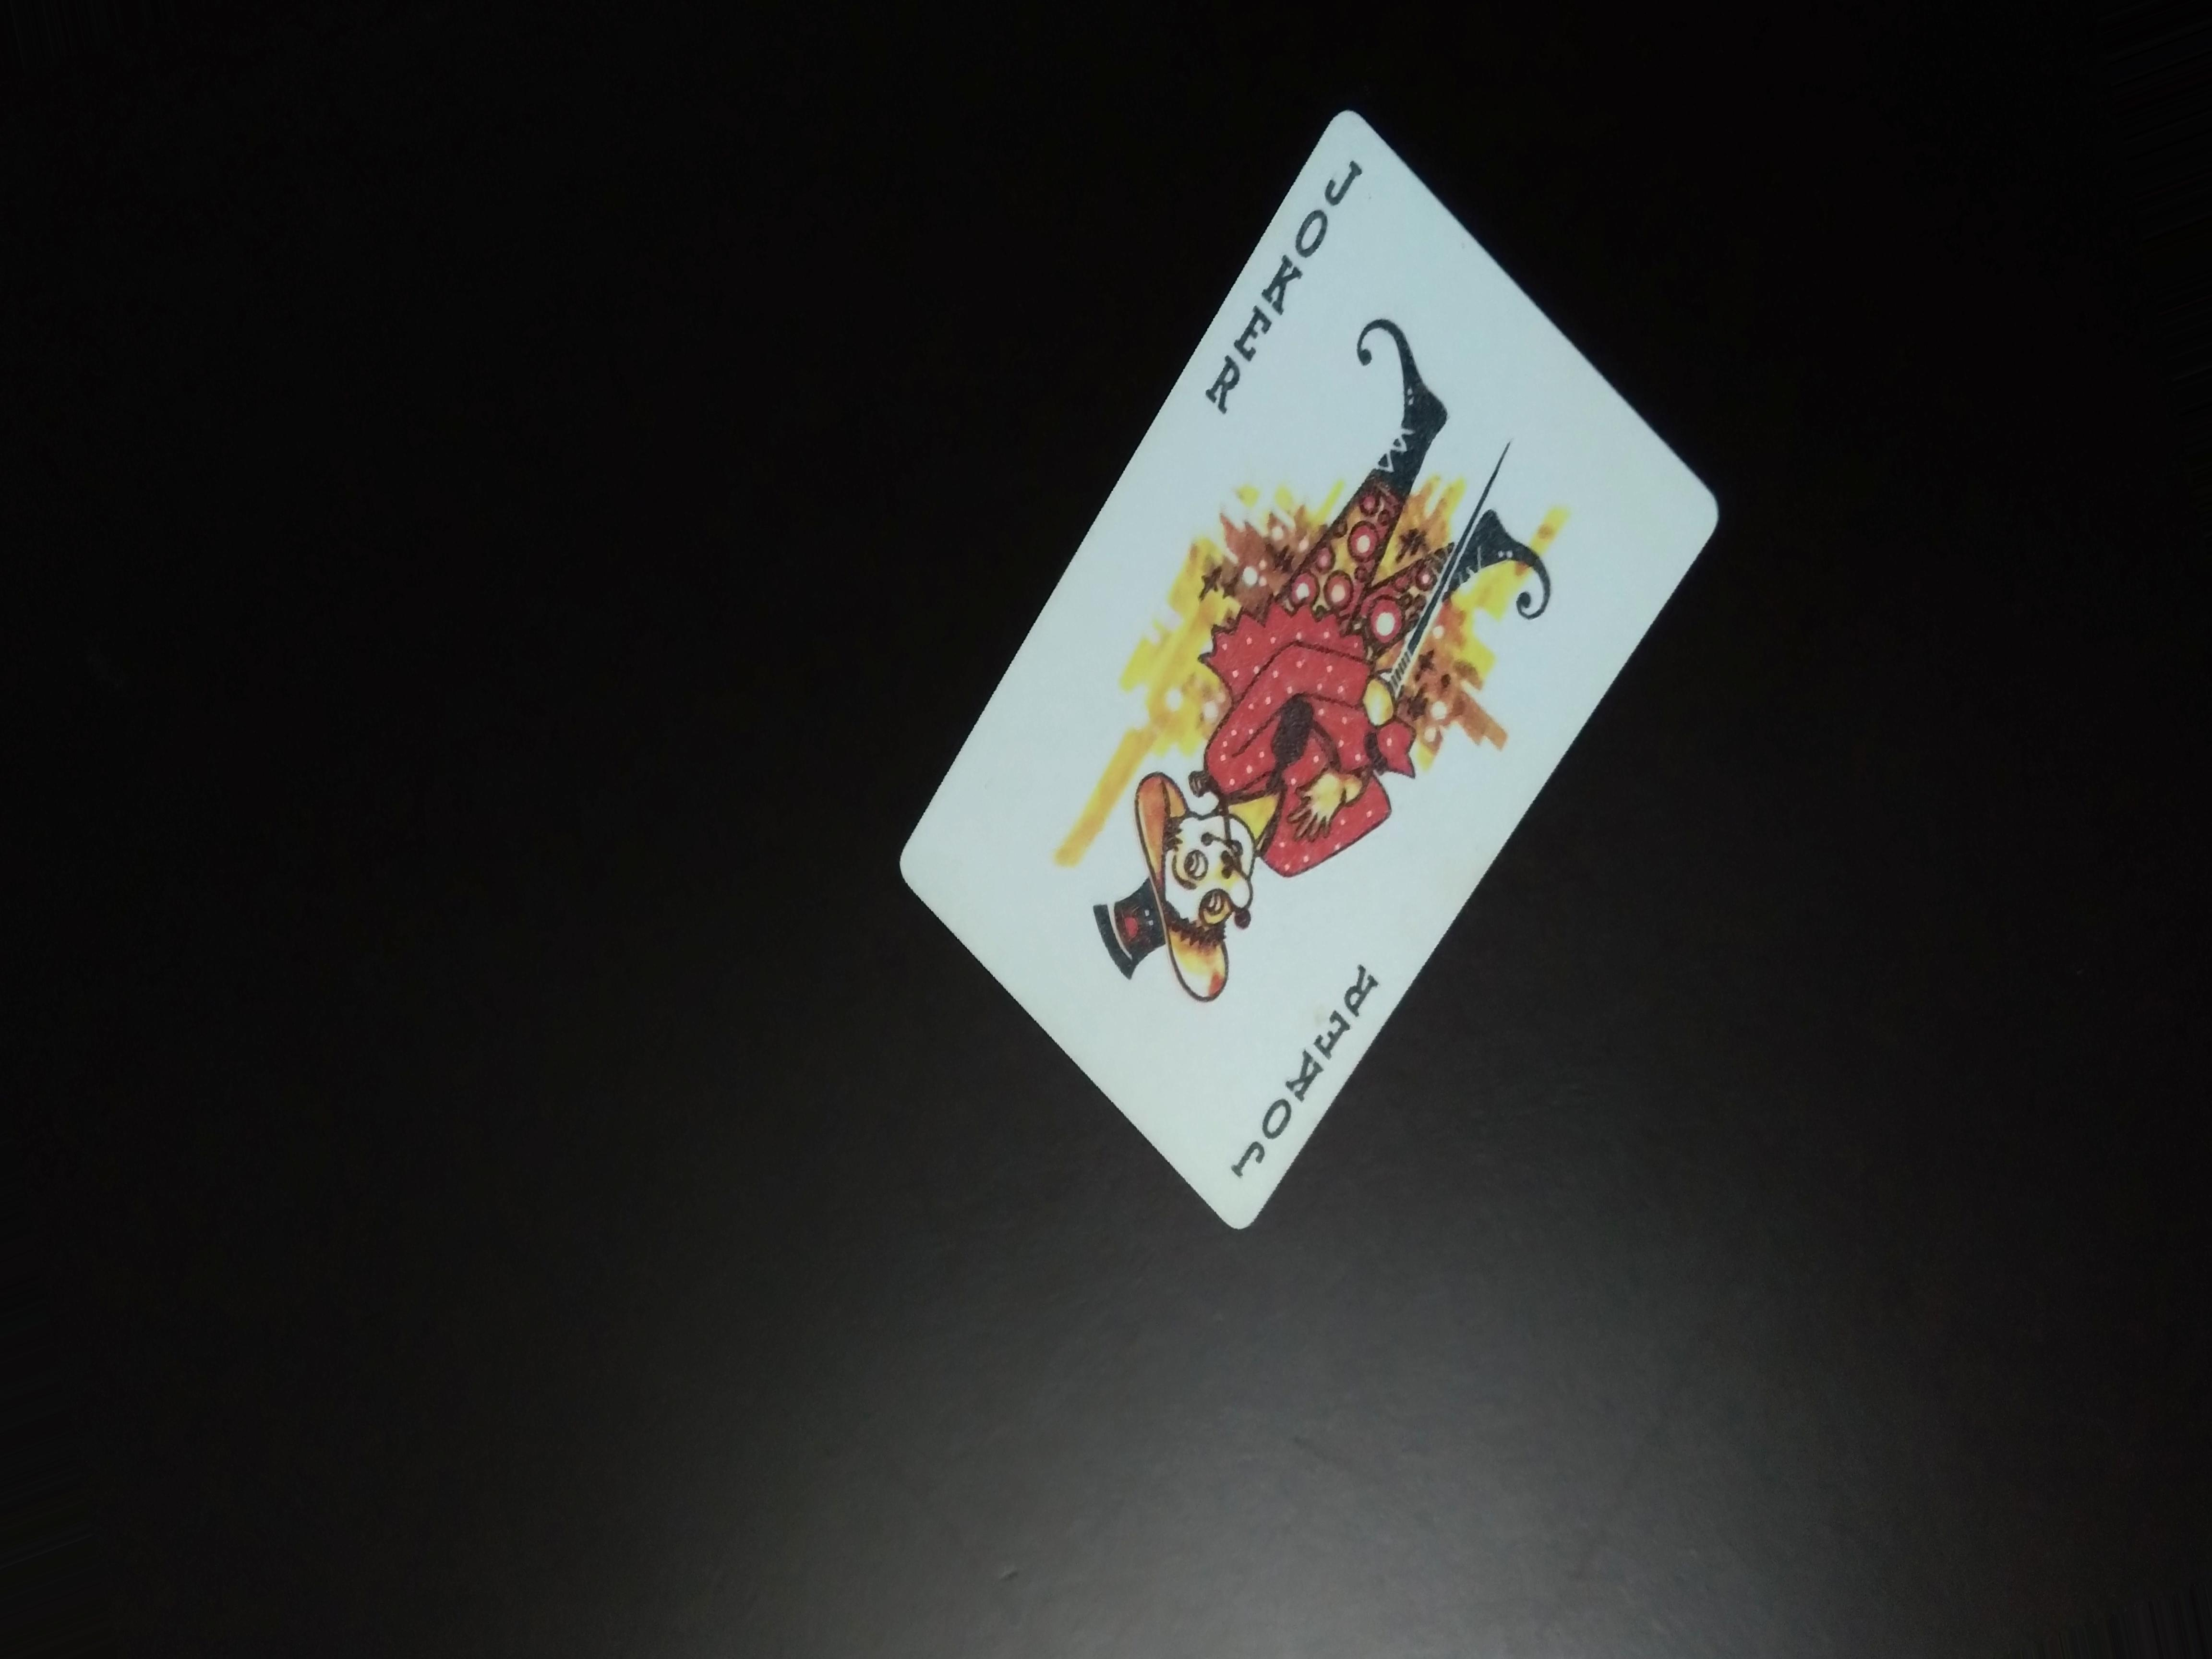JOKER: (1223, 941, 1393, 1188)
